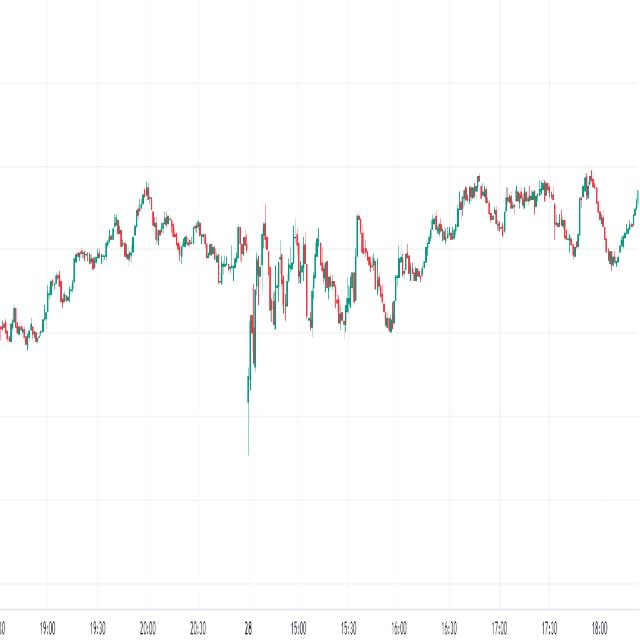rectangle: (248, 200, 402, 352)
